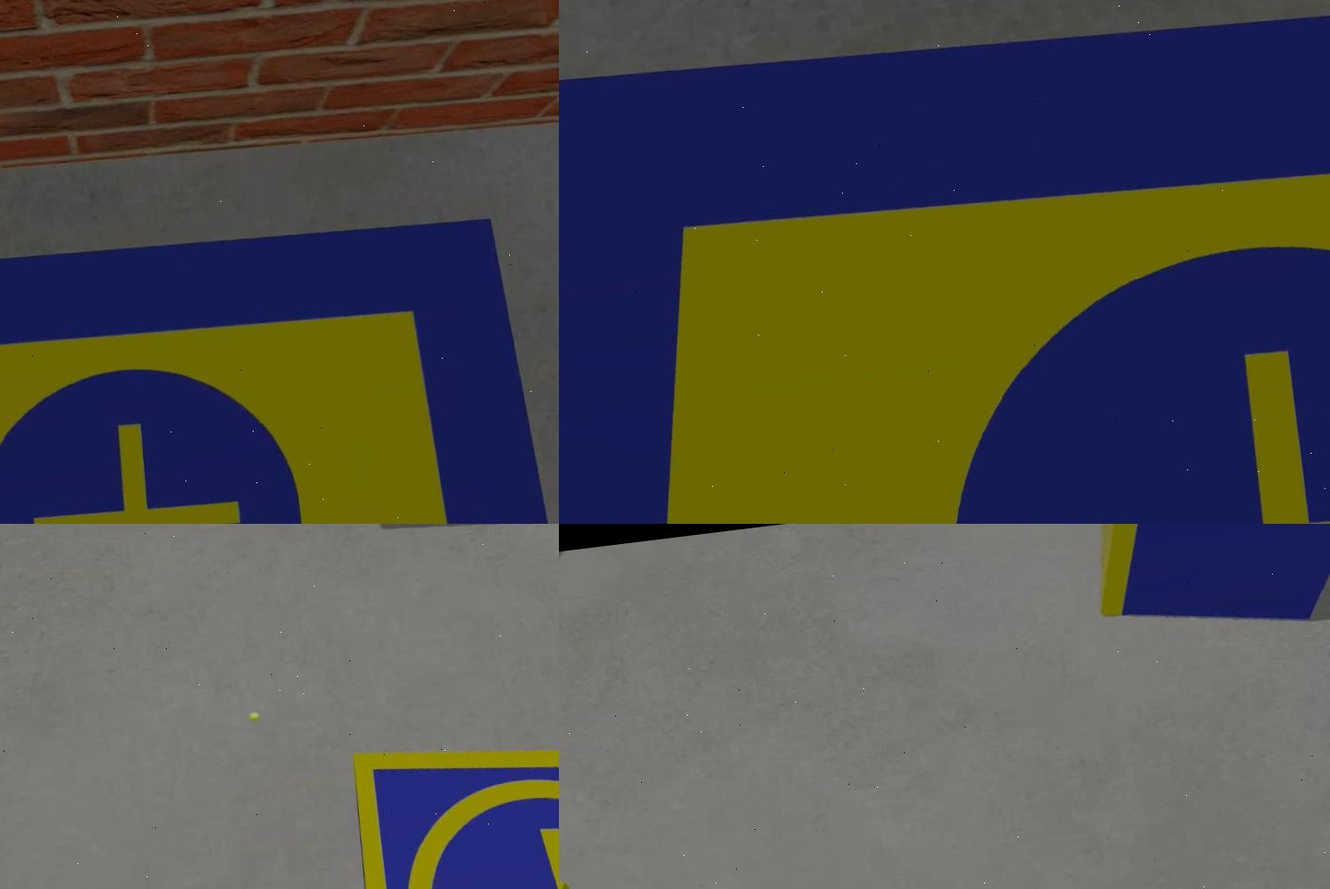large_base: (558, 1, 1328, 524), (0, 186, 558, 524)
small_base: (344, 698, 558, 889)
